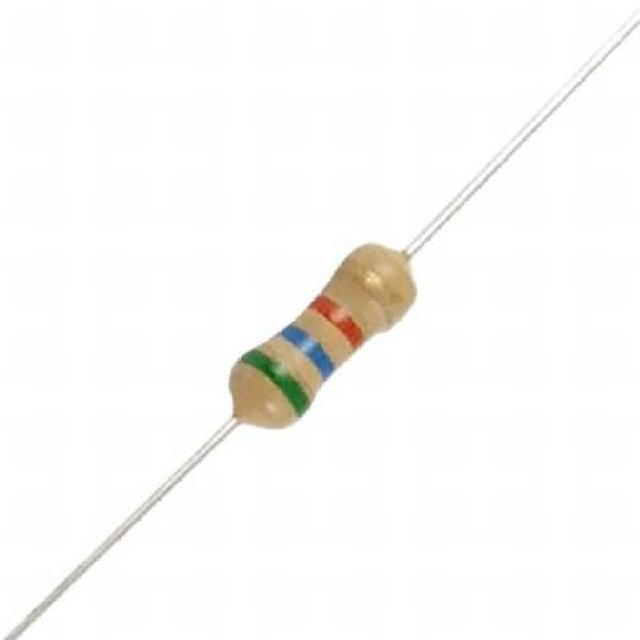Capacitor: (228, 245, 418, 429)
